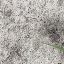Nutsedge: (35, 0, 64, 64), (0, 0, 23, 64)
